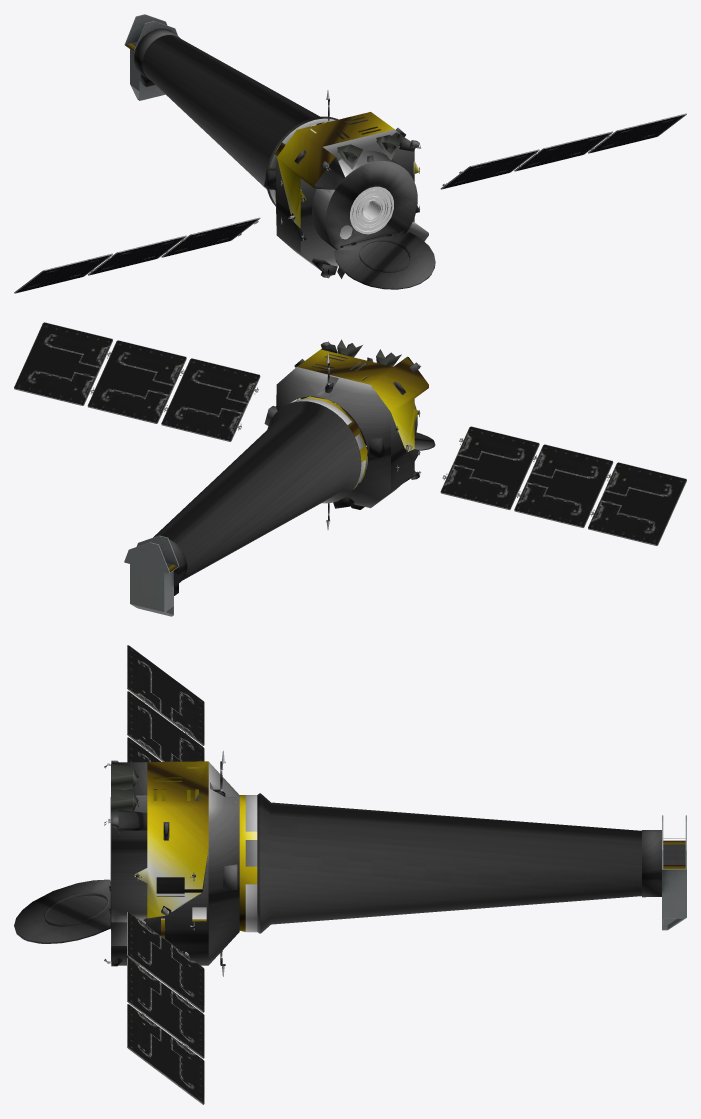
The model's file is chandra.glb.
3 views of the same model, one above another, from view 1: azimuth 30°, elevation 25°; view 2: azimuth 150°, elevation 25°; view 3: azimuth 270°, elevation 25° (orthographic). The views are drawn at different scales.
Parts seen in each view (by area): view 1: foil_silver, shiny_panel, foil_gold, AO_HRMA; view 2: shiny_panel, foil_silver, foil_gold; view 3: foil_silver, shiny_panel, foil_gold.
Boxes of the visible parts, x1,y1,x2,y2 form: foil_silver: (134,28,435,289); shiny_panel: (14,14,686,293); foil_gold: (125,43,419,228); AO_HRMA: (276,124,393,234); shiny_panel: (14,322,686,616); foil_silver: (153,341,435,595); foil_gold: (168,349,428,572); foil_silver: (14,760,661,966); shiny_panel: (104,645,686,1104); foil_gold: (134,761,685,938).
Size of the model in its own units: 1 by 0.2622 by 0.7064.
4 materials, 3 textured.
